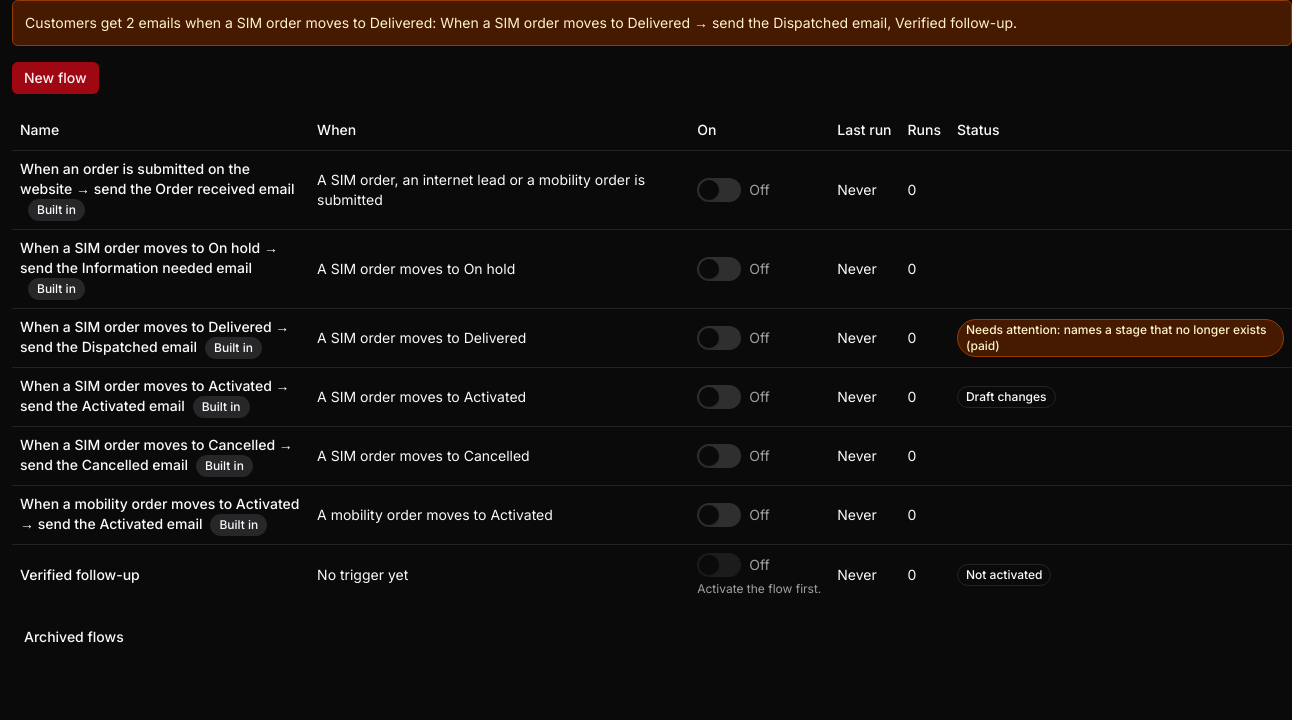
Scenario: SiteAutomations › switches a flow on, and keeps the confirmed state when a later change fails
The image size is (1292, 720).
Click the switch named "When an order is submitted on the website → send the Order received email".
click(719, 190)  # box [697,178,741,202]
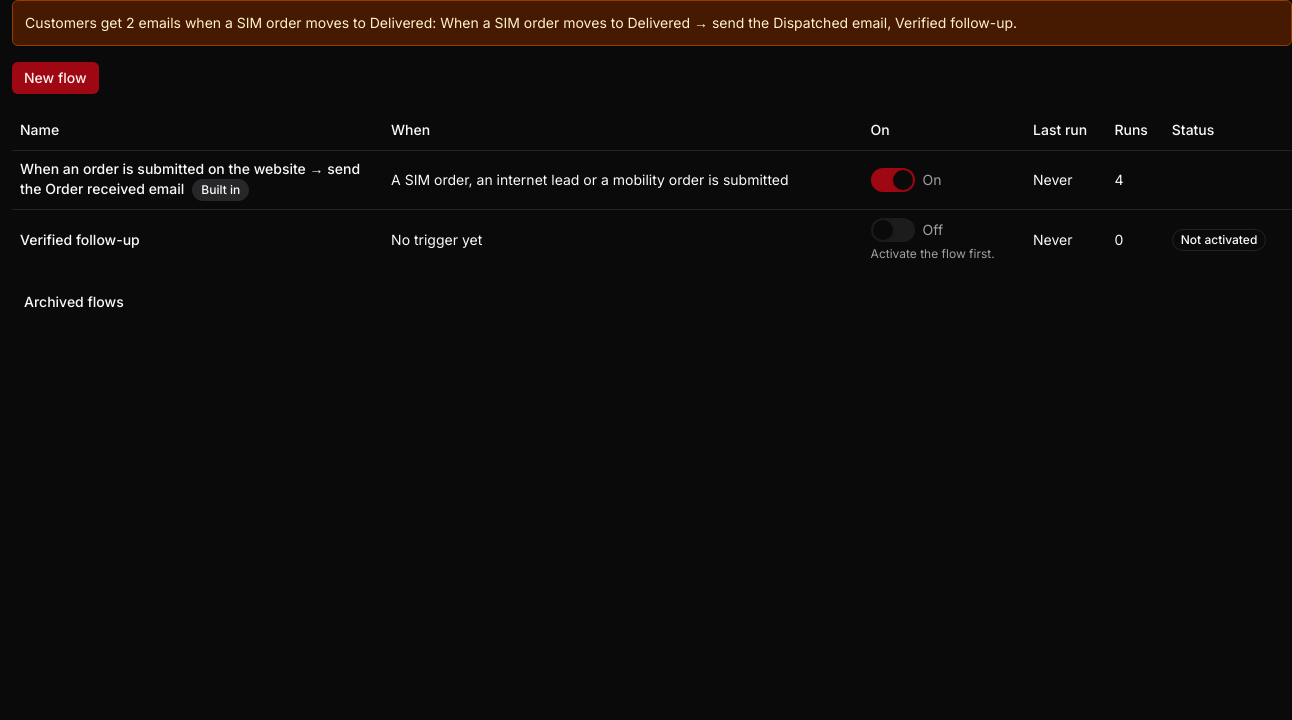
Result: the text "4" is shown at [1106,150,1164,209]
Click the switch named "When an order is submitted on the website → send the Order received email".
click(893, 180)  # box [871,168,915,192]
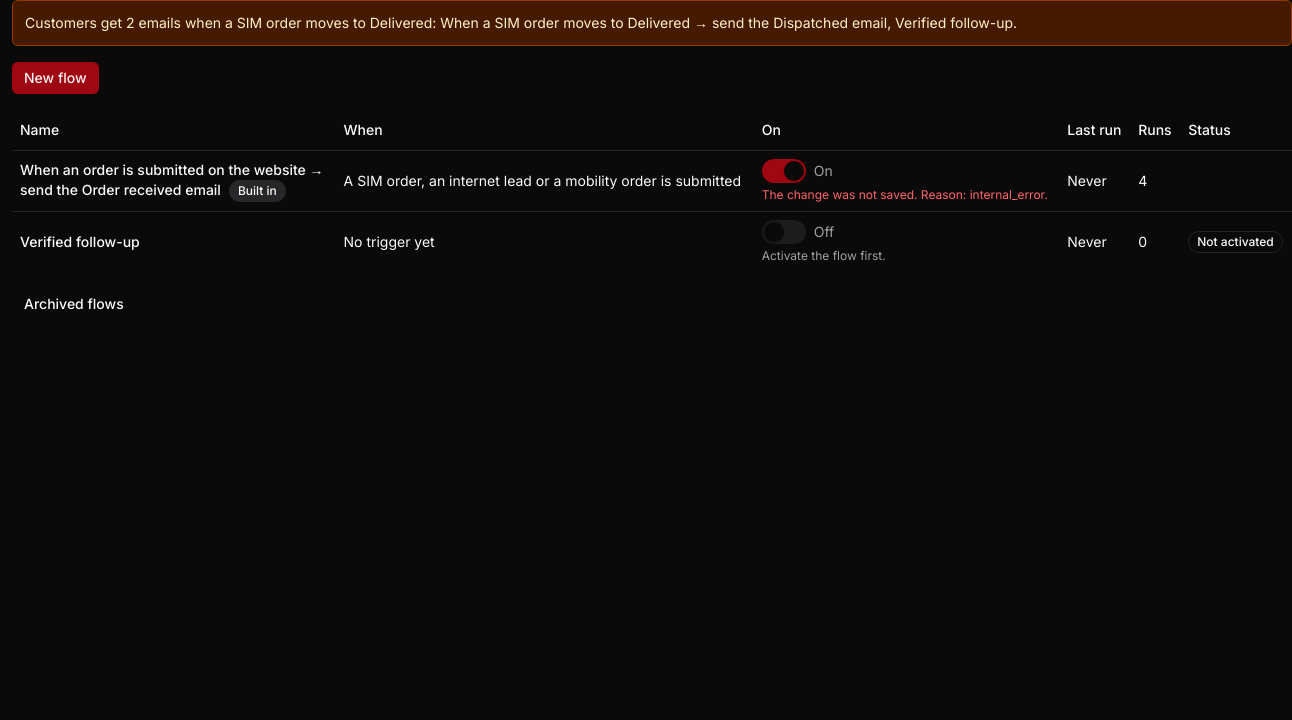
Result: the message reads "The change was not saved. Reason: internal_error." at [762,186,1048,202]
